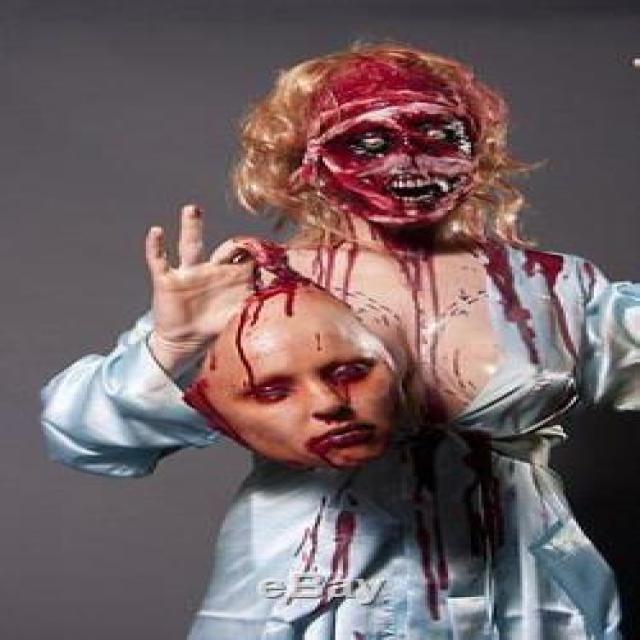flood: (299, 58, 488, 234)
